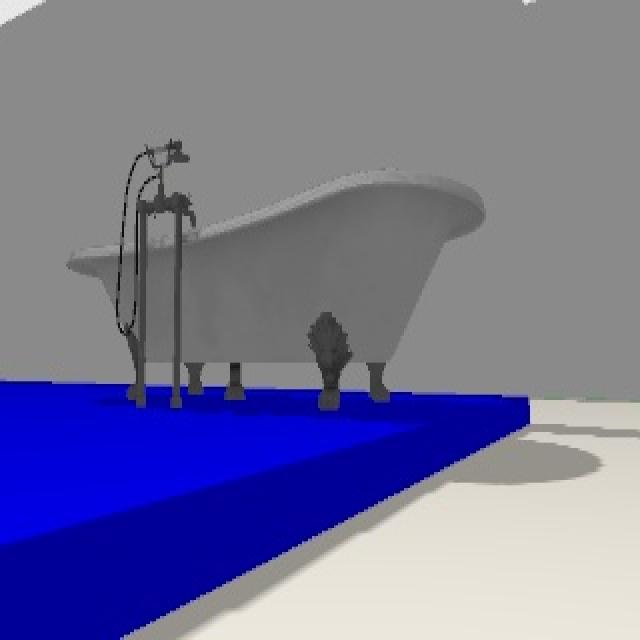bathtub: (70, 144, 492, 408)
